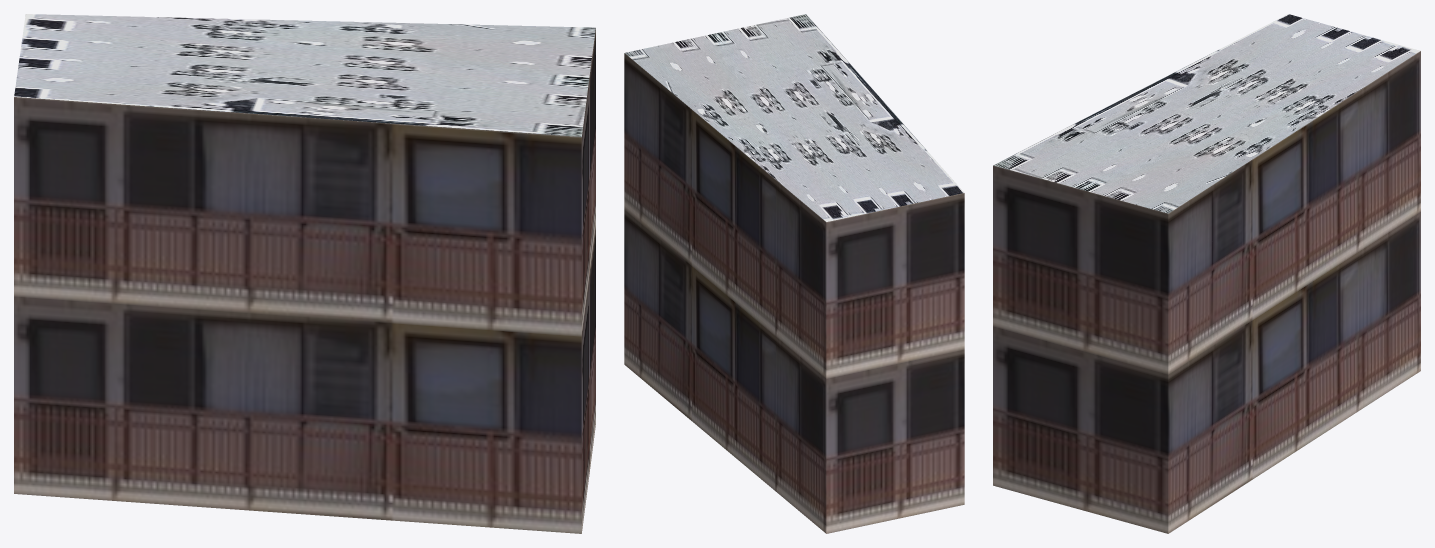
File: ResTex__3678.fbx
The picture shows the model from 3 angles, left to right: view 1: azimuth 30°, elevation 25°; view 2: azimuth 150°, elevation 25°; view 3: azimuth 270°, elevation 25°; orthographic projection. The views are drawn at different scales.
Parts seen in each view (by area): view 1: CityEngineMaterial_6_m, CityEngineMaterial_8_m; view 2: CityEngineMaterial_6_m, CityEngineMaterial_8_m; view 3: CityEngineMaterial_6_m, CityEngineMaterial_8_m.
Boxes of the visible parts, left/top/right/bottom form: CityEngineMaterial_6_m: left=14, top=28, right=595, bottom=533; CityEngineMaterial_8_m: left=14, top=14, right=595, bottom=136; CityEngineMaterial_6_m: left=624, top=53, right=964, bottom=533; CityEngineMaterial_8_m: left=625, top=14, right=964, bottom=221; CityEngineMaterial_6_m: left=993, top=51, right=1420, bottom=533; CityEngineMaterial_8_m: left=993, top=14, right=1420, bottom=213.
Bounding box in the file's own units: 8.03 × 6 × 7.26.
2 materials, 2 textured.
